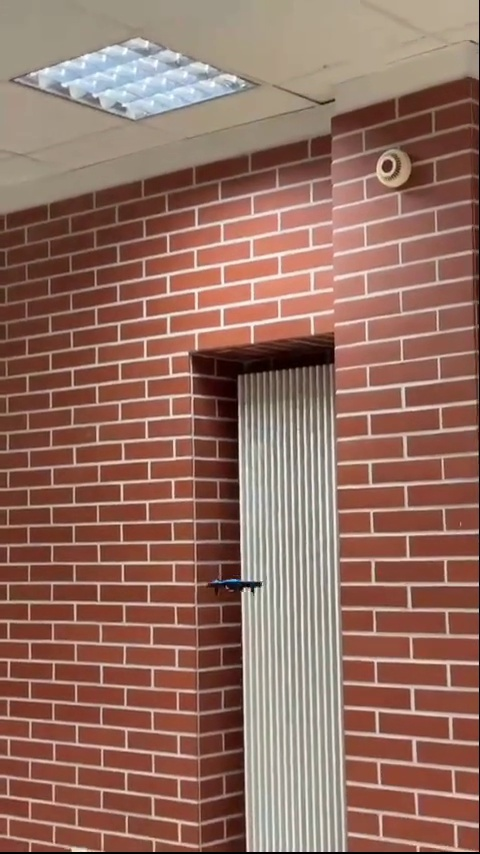drone: (207, 577, 265, 600)
